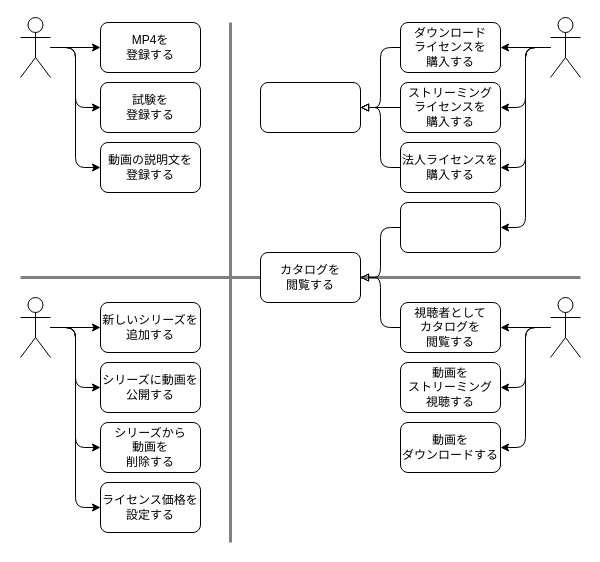
The diagram is 600 pixels wide and 562 high, and some of its shapes have lost their labels. The centre of each missing label's shape, as x and y in pixels:
ライセンスを 購入する: pixel 310 107
作者: pixel 35 47
管理者: pixel 35 327
視聴者: pixel 565 327
購入者: pixel 565 47
購入者として カタログを 閲覧する: pixel 450 227
